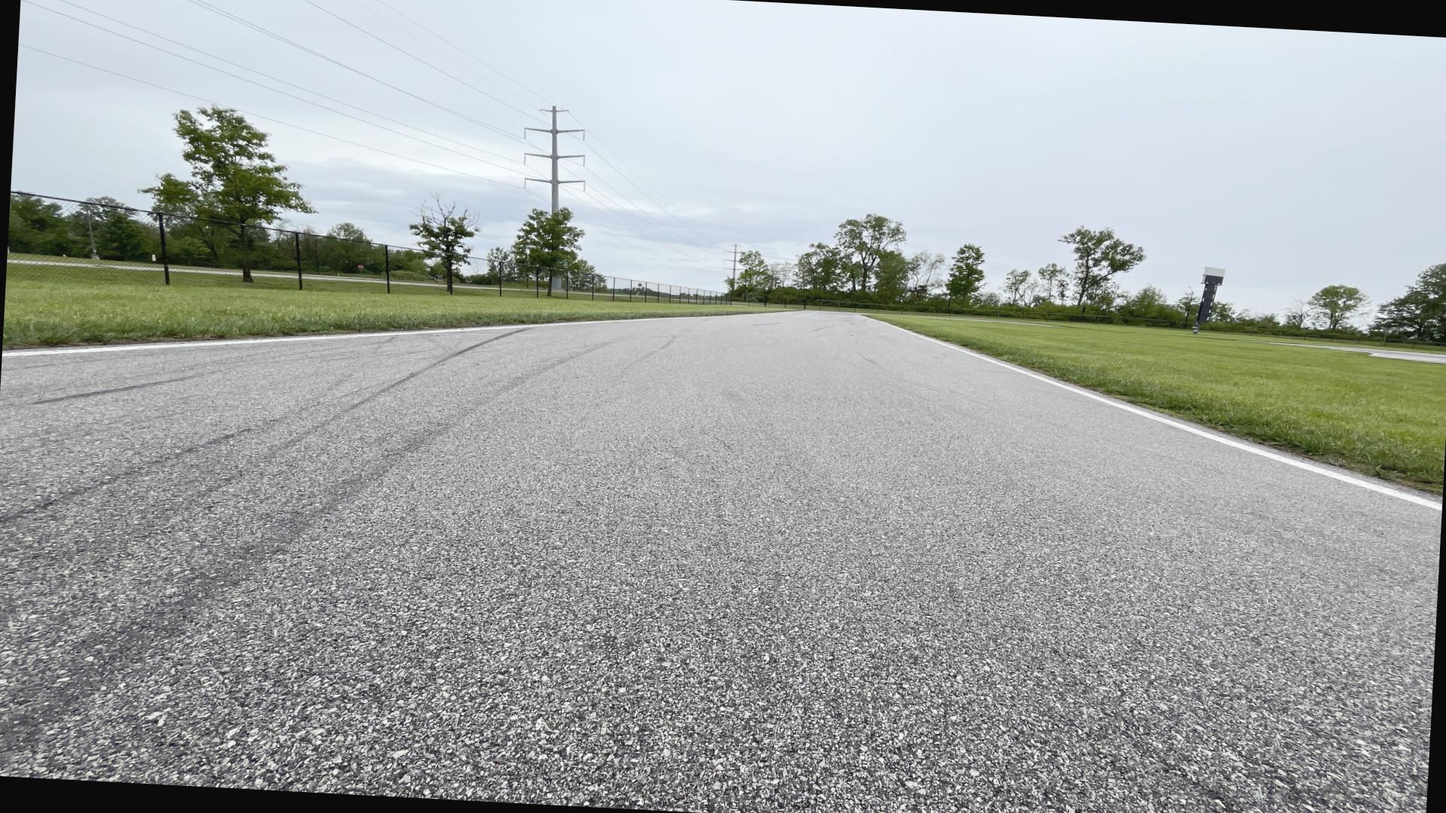white-line: (858, 315, 1441, 512), (2, 311, 853, 358)
